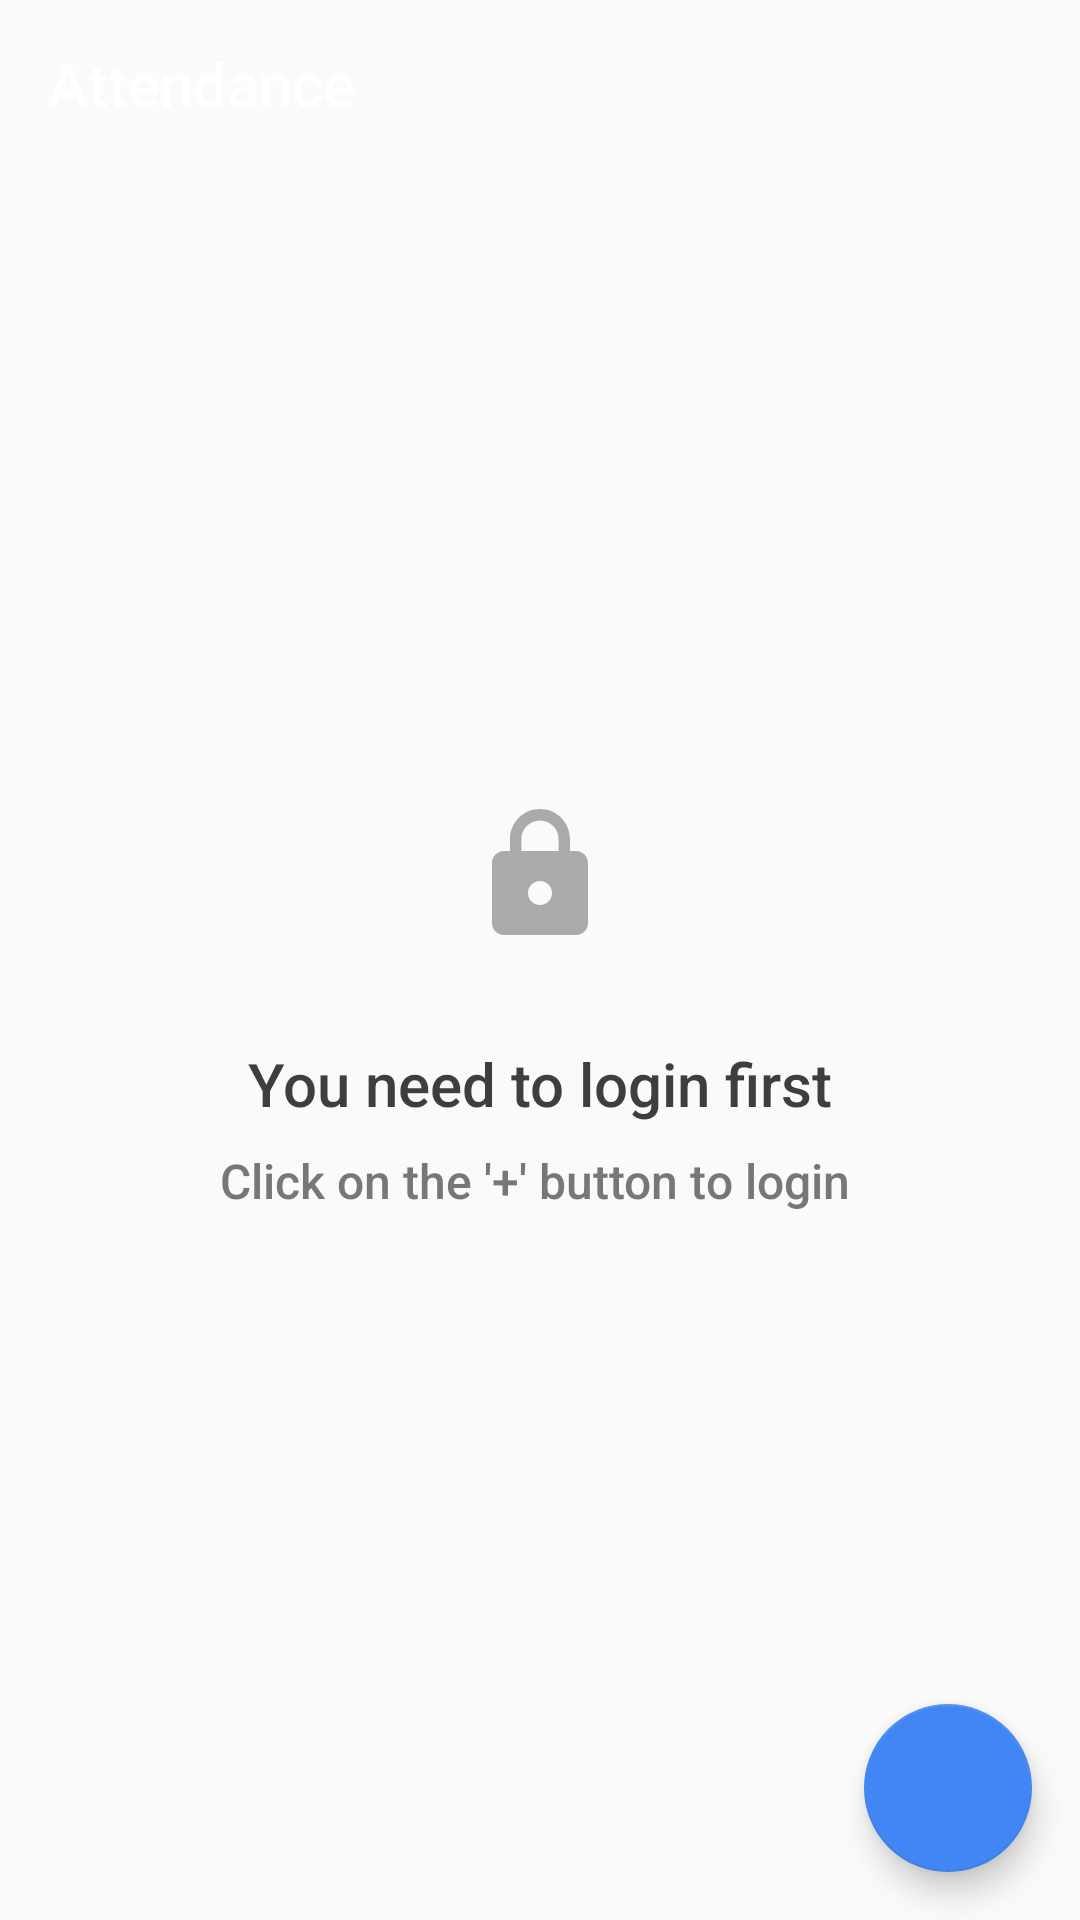

Icon bounding boxes for this 1080 x 1920 phone screenshot, format BBox(x1, y1, x2, y2):
lock: BBox(492, 809, 588, 935)
